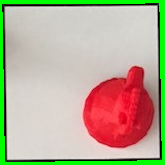Red Knight: (79, 62, 157, 150)
